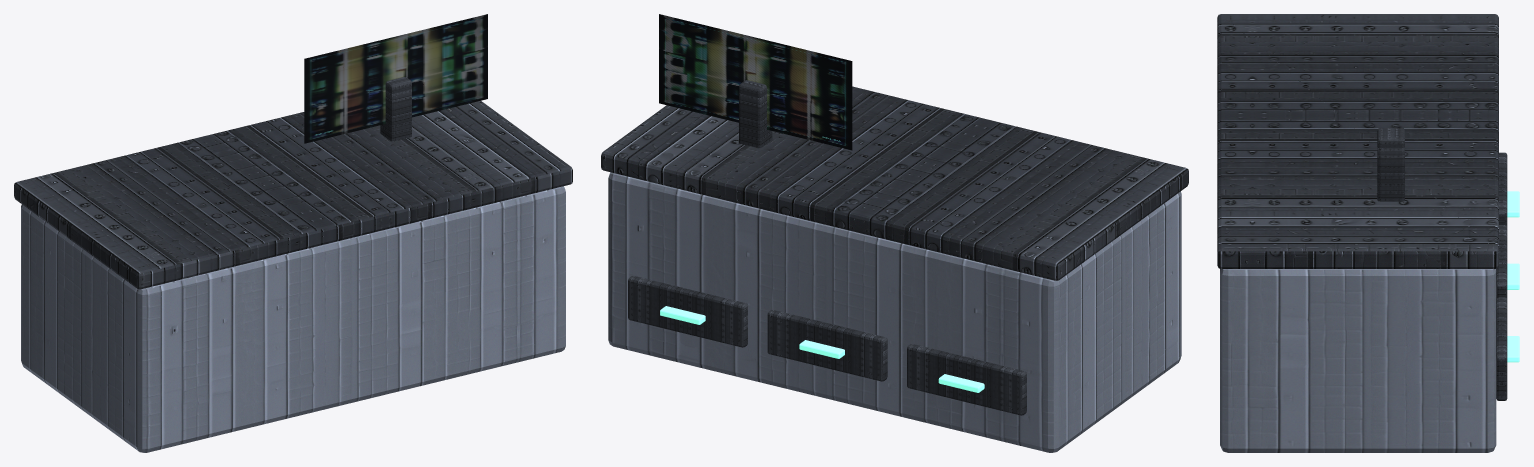
Rendered from device_medbay.glb.
The picture shows the model from 3 angles, left to right: view 1: azimuth 30°, elevation 25°; view 2: azimuth 150°, elevation 25°; view 3: azimuth 270°, elevation 25°; orthographic projection. The views are drawn at different scales.
Parts seen in each view (by area): view 1: base, top, display, screen_stand; view 2: base, top, display, drawer_1, drawer_2, drawer_0, screen_stand; view 3: top, base, screen_stand, drawer_2, drawer_1, drawer_0, handle_1, handle_2, handle_0.
Part boxes in pixels (box(x1,y1,x2,y2)): base: box(21, 186, 565, 452); top: box(14, 101, 572, 289); display: box(304, 14, 487, 143); screen_stand: box(380, 77, 411, 141); base: box(608, 172, 1181, 452); top: box(601, 86, 1188, 280); display: box(659, 14, 852, 150); drawer_1: box(767, 310, 887, 381); drawer_2: box(628, 276, 747, 347); drawer_0: box(907, 344, 1026, 415); screen_stand: box(739, 80, 772, 147); top: box(1217, 14, 1498, 268); base: box(1220, 269, 1496, 452); screen_stand: box(1377, 128, 1404, 201); drawer_2: box(1496, 297, 1507, 400); drawer_1: box(1496, 225, 1507, 299); drawer_0: box(1499, 152, 1507, 226); handle_1: box(1507, 263, 1519, 289); handle_2: box(1507, 336, 1519, 362); handle_0: box(1507, 191, 1519, 217).
Bounding box in the file's own units: 2.04 × 1.27 × 1.09.
Materials: 4 (3 with a texture image).
